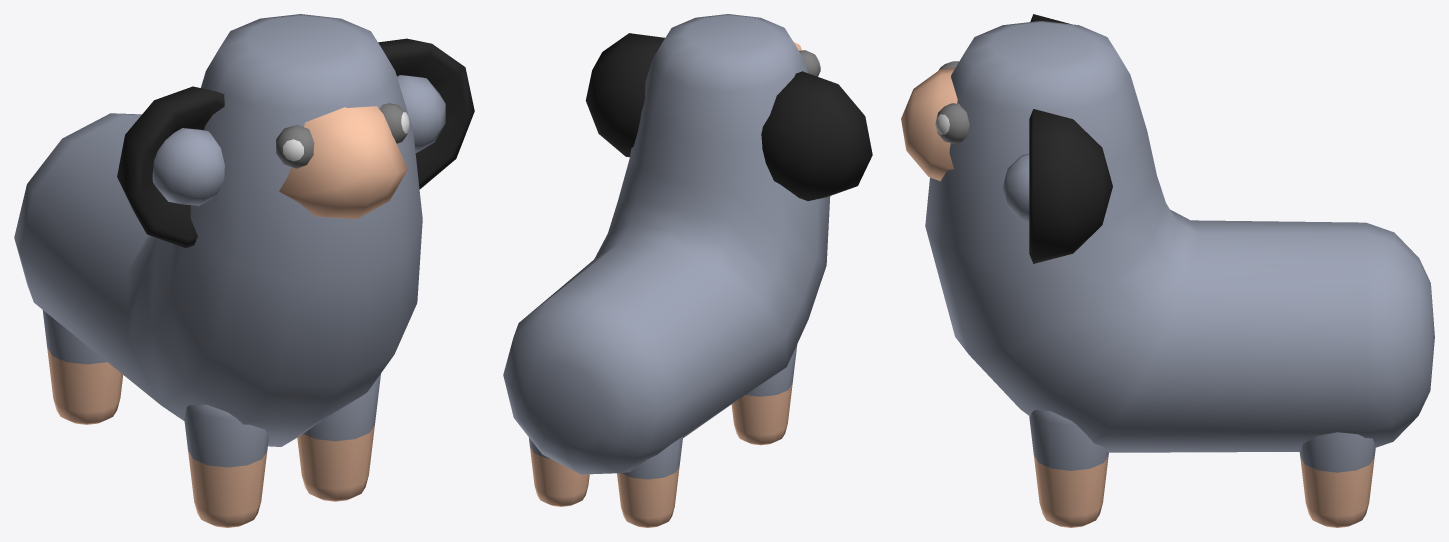
3 views of the same model, side by side, from view 1: azimuth 30°, elevation 25°; view 2: azimuth 150°, elevation 25°; view 3: azimuth 270°, elevation 25° (orthographic). The views are drawn at different scales.
Visible parts, largest first — view 1: 14; view 2: 14; view 3: 14.
Boxes of the visible parts, box(x1,y1,x2,y2) form: 14: box(14, 14, 474, 527); 14: box(503, 14, 872, 527); 14: box(901, 14, 1434, 527).
Bounding box in the file's own units: 243 × 320 × 343.
